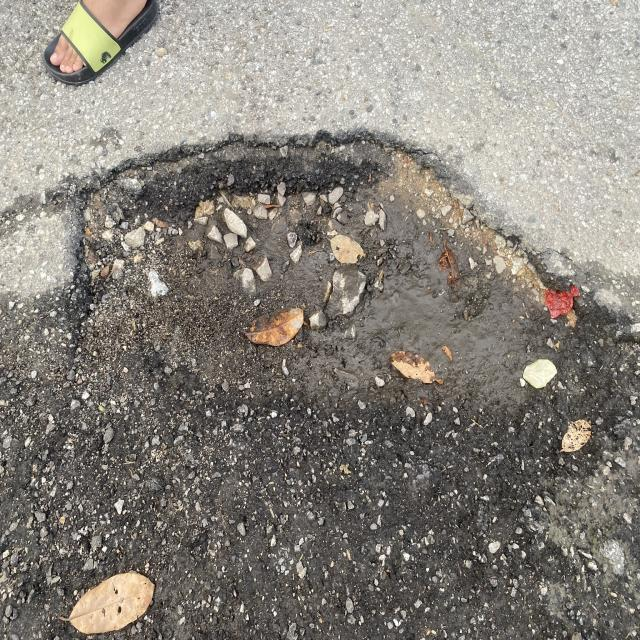Pothole: (70, 98, 626, 396)
